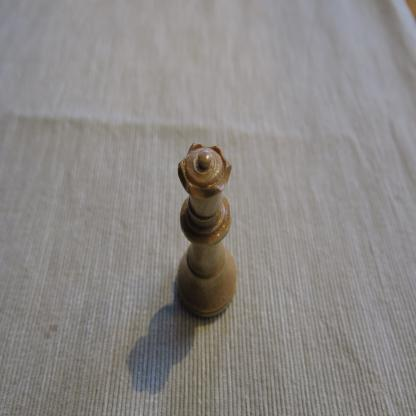white-queen: (176, 141, 238, 320)
